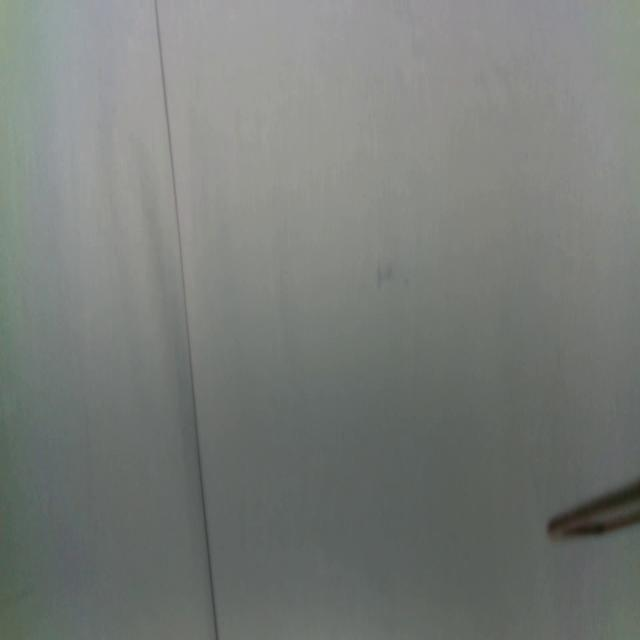crease: (152, 0, 220, 639)
